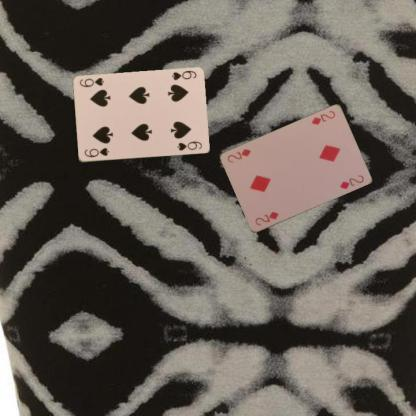2d: (252, 209, 280, 227), (309, 108, 336, 126)
6s: (81, 145, 110, 159), (169, 68, 198, 82)
